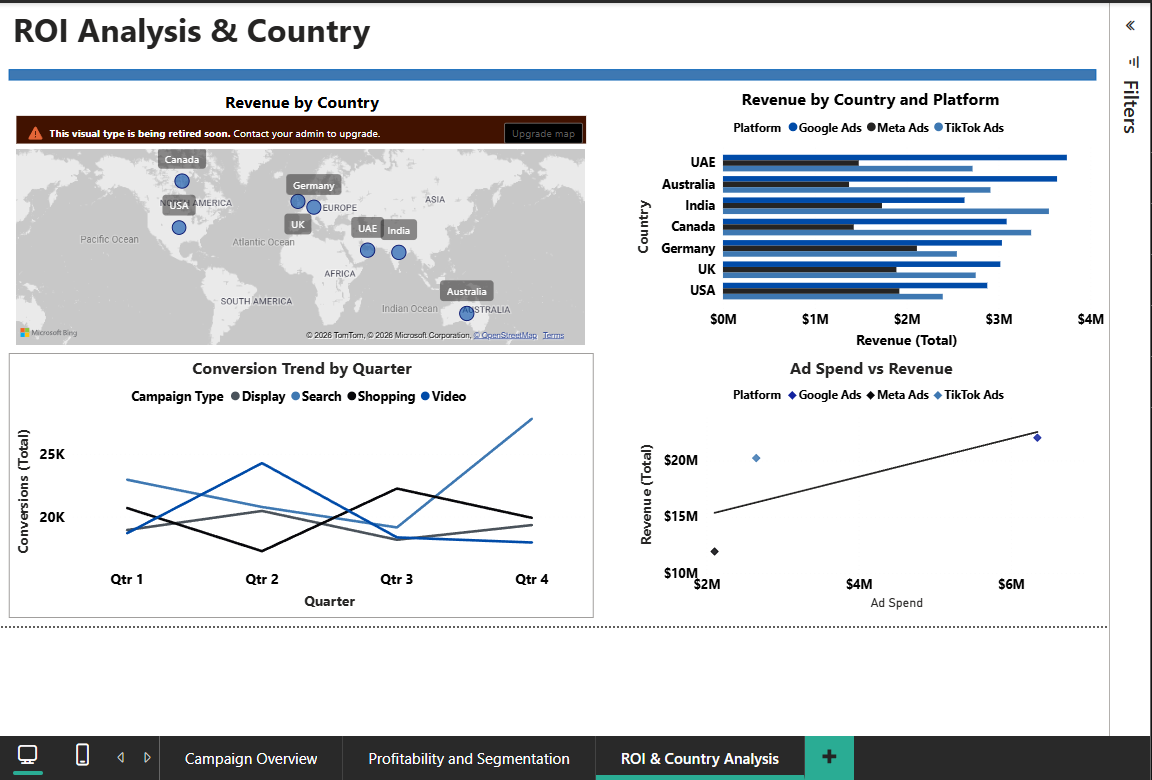

This screenshot's page, from the dashboard's own definition file:
{"tool":"powerbi","page":{"name":"ROI & Country Analysis","canvas":[1280,720],"ordinal":2},"visuals":[{"type":"textbox","box":[10.1,0,1255.2,64.9],"z":0},{"type":"shape","box":[10.1,76.5,1255.2,13],"z":1000},{"type":"map","title":"Revenue by Country","fields":{"Category":["digital marketing campaign_cleaned.country"],"Size":["Sum(digital marketing campaign_cleaned.revenue)"]},"box":[10.1,96.7,675.2,307.3],"z":1001},{"type":"clusteredBarChart","title":"Revenue by Country and Platform","fields":{"Category":["digital marketing campaign_cleaned.country"],"Series":["digital marketing campaign_cleaned.platform"],"Y":["Sum(digital marketing campaign_cleaned.revenue)"]},"box":[730,98.1,549.7,305.9],"z":1002},{"type":"lineChart","title":"Conversion Trend by Quarter","fields":{"Category":["digital marketing campaign_cleaned.date.Variation.Date Hierarchy.Quarter"],"Series":["digital marketing campaign_cleaned.campaign_type"],"Y":["Sum(digital marketing campaign_cleaned.conversions)"]},"box":[10.1,404,675.2,305.9],"z":1003},{"type":"scatterChart","title":"Ad Spend vs Revenue","fields":{"Series":["digital marketing campaign_cleaned.platform"],"X":["Sum(digital marketing campaign_cleaned.ad_spend)"],"Y":["Sum(digital marketing campaign_cleaned.revenue)"]},"box":[730,404,549.7,305.9],"z":1004}]}

Visuals, with their boxes on the page's 1280x720 design canvas (x1, y1, x2, y2). These are canvas units, not pixel positions in the 1152x780 screenshot, which may show the page scaled, cropped or inside an application window:
textbox: box=[10, 0, 1265, 65]
shape: box=[10, 76, 1265, 90]
"Revenue by Country" map: box=[10, 97, 685, 404]
"Revenue by Country and Platform" clusteredBarChart: box=[730, 98, 1280, 404]
"Conversion Trend by Quarter" lineChart: box=[10, 404, 685, 710]
"Ad Spend vs Revenue" scatterChart: box=[730, 404, 1280, 710]
